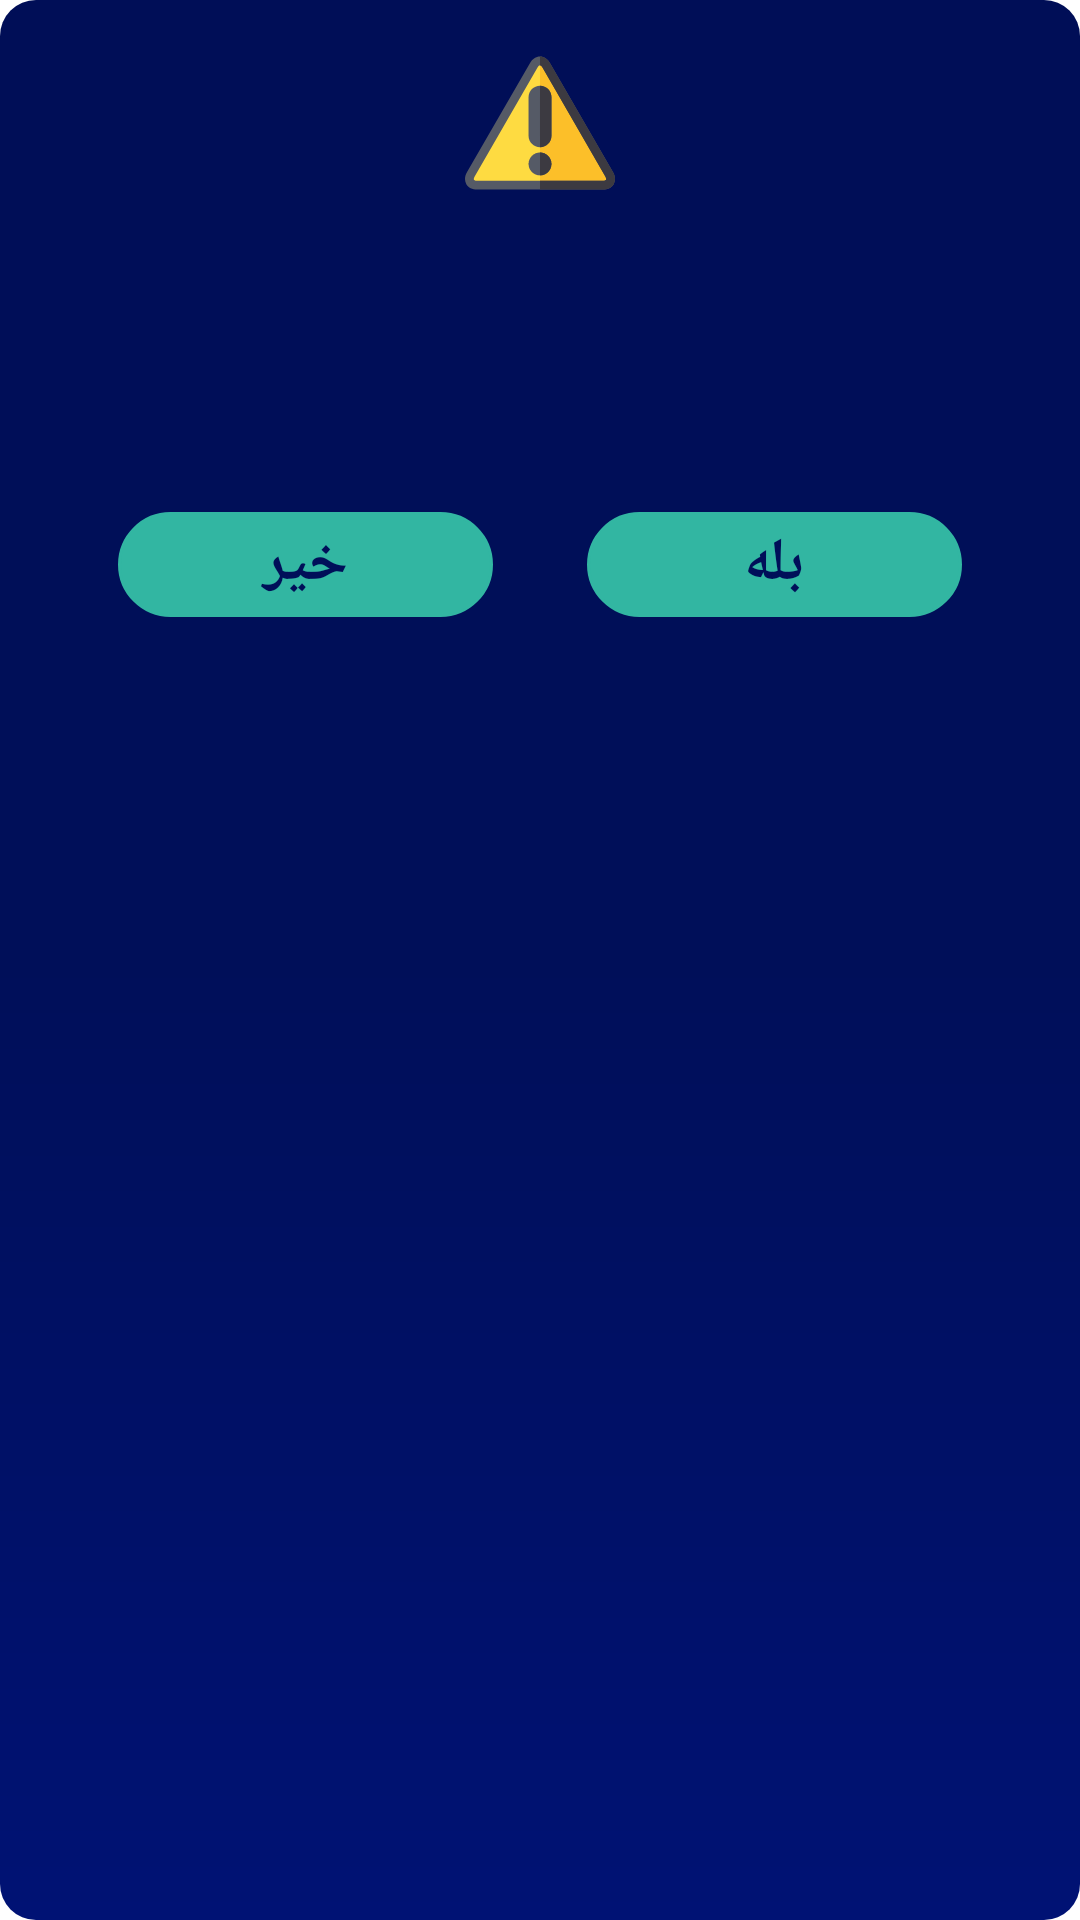

Named icons in this screenshot (1080 x 1920) and their bounding boxes, (x1, y1, x2, y2):
caution: (465, 56, 615, 190)
